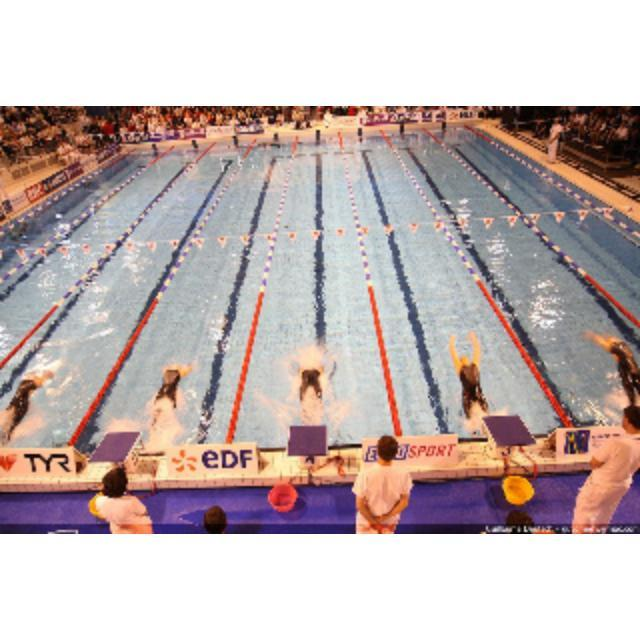human: (583, 329, 639, 407), (1, 369, 57, 443), (448, 332, 494, 418), (146, 368, 196, 414), (298, 364, 324, 402)
